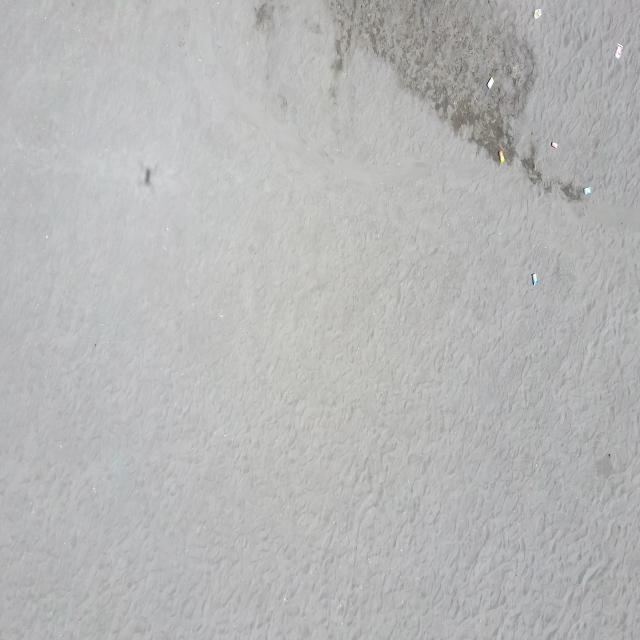retort-pouch: (614, 42, 623, 61), (486, 74, 494, 90), (531, 271, 538, 288), (499, 148, 505, 166), (583, 185, 591, 198), (534, 7, 542, 20), (551, 140, 558, 150)
